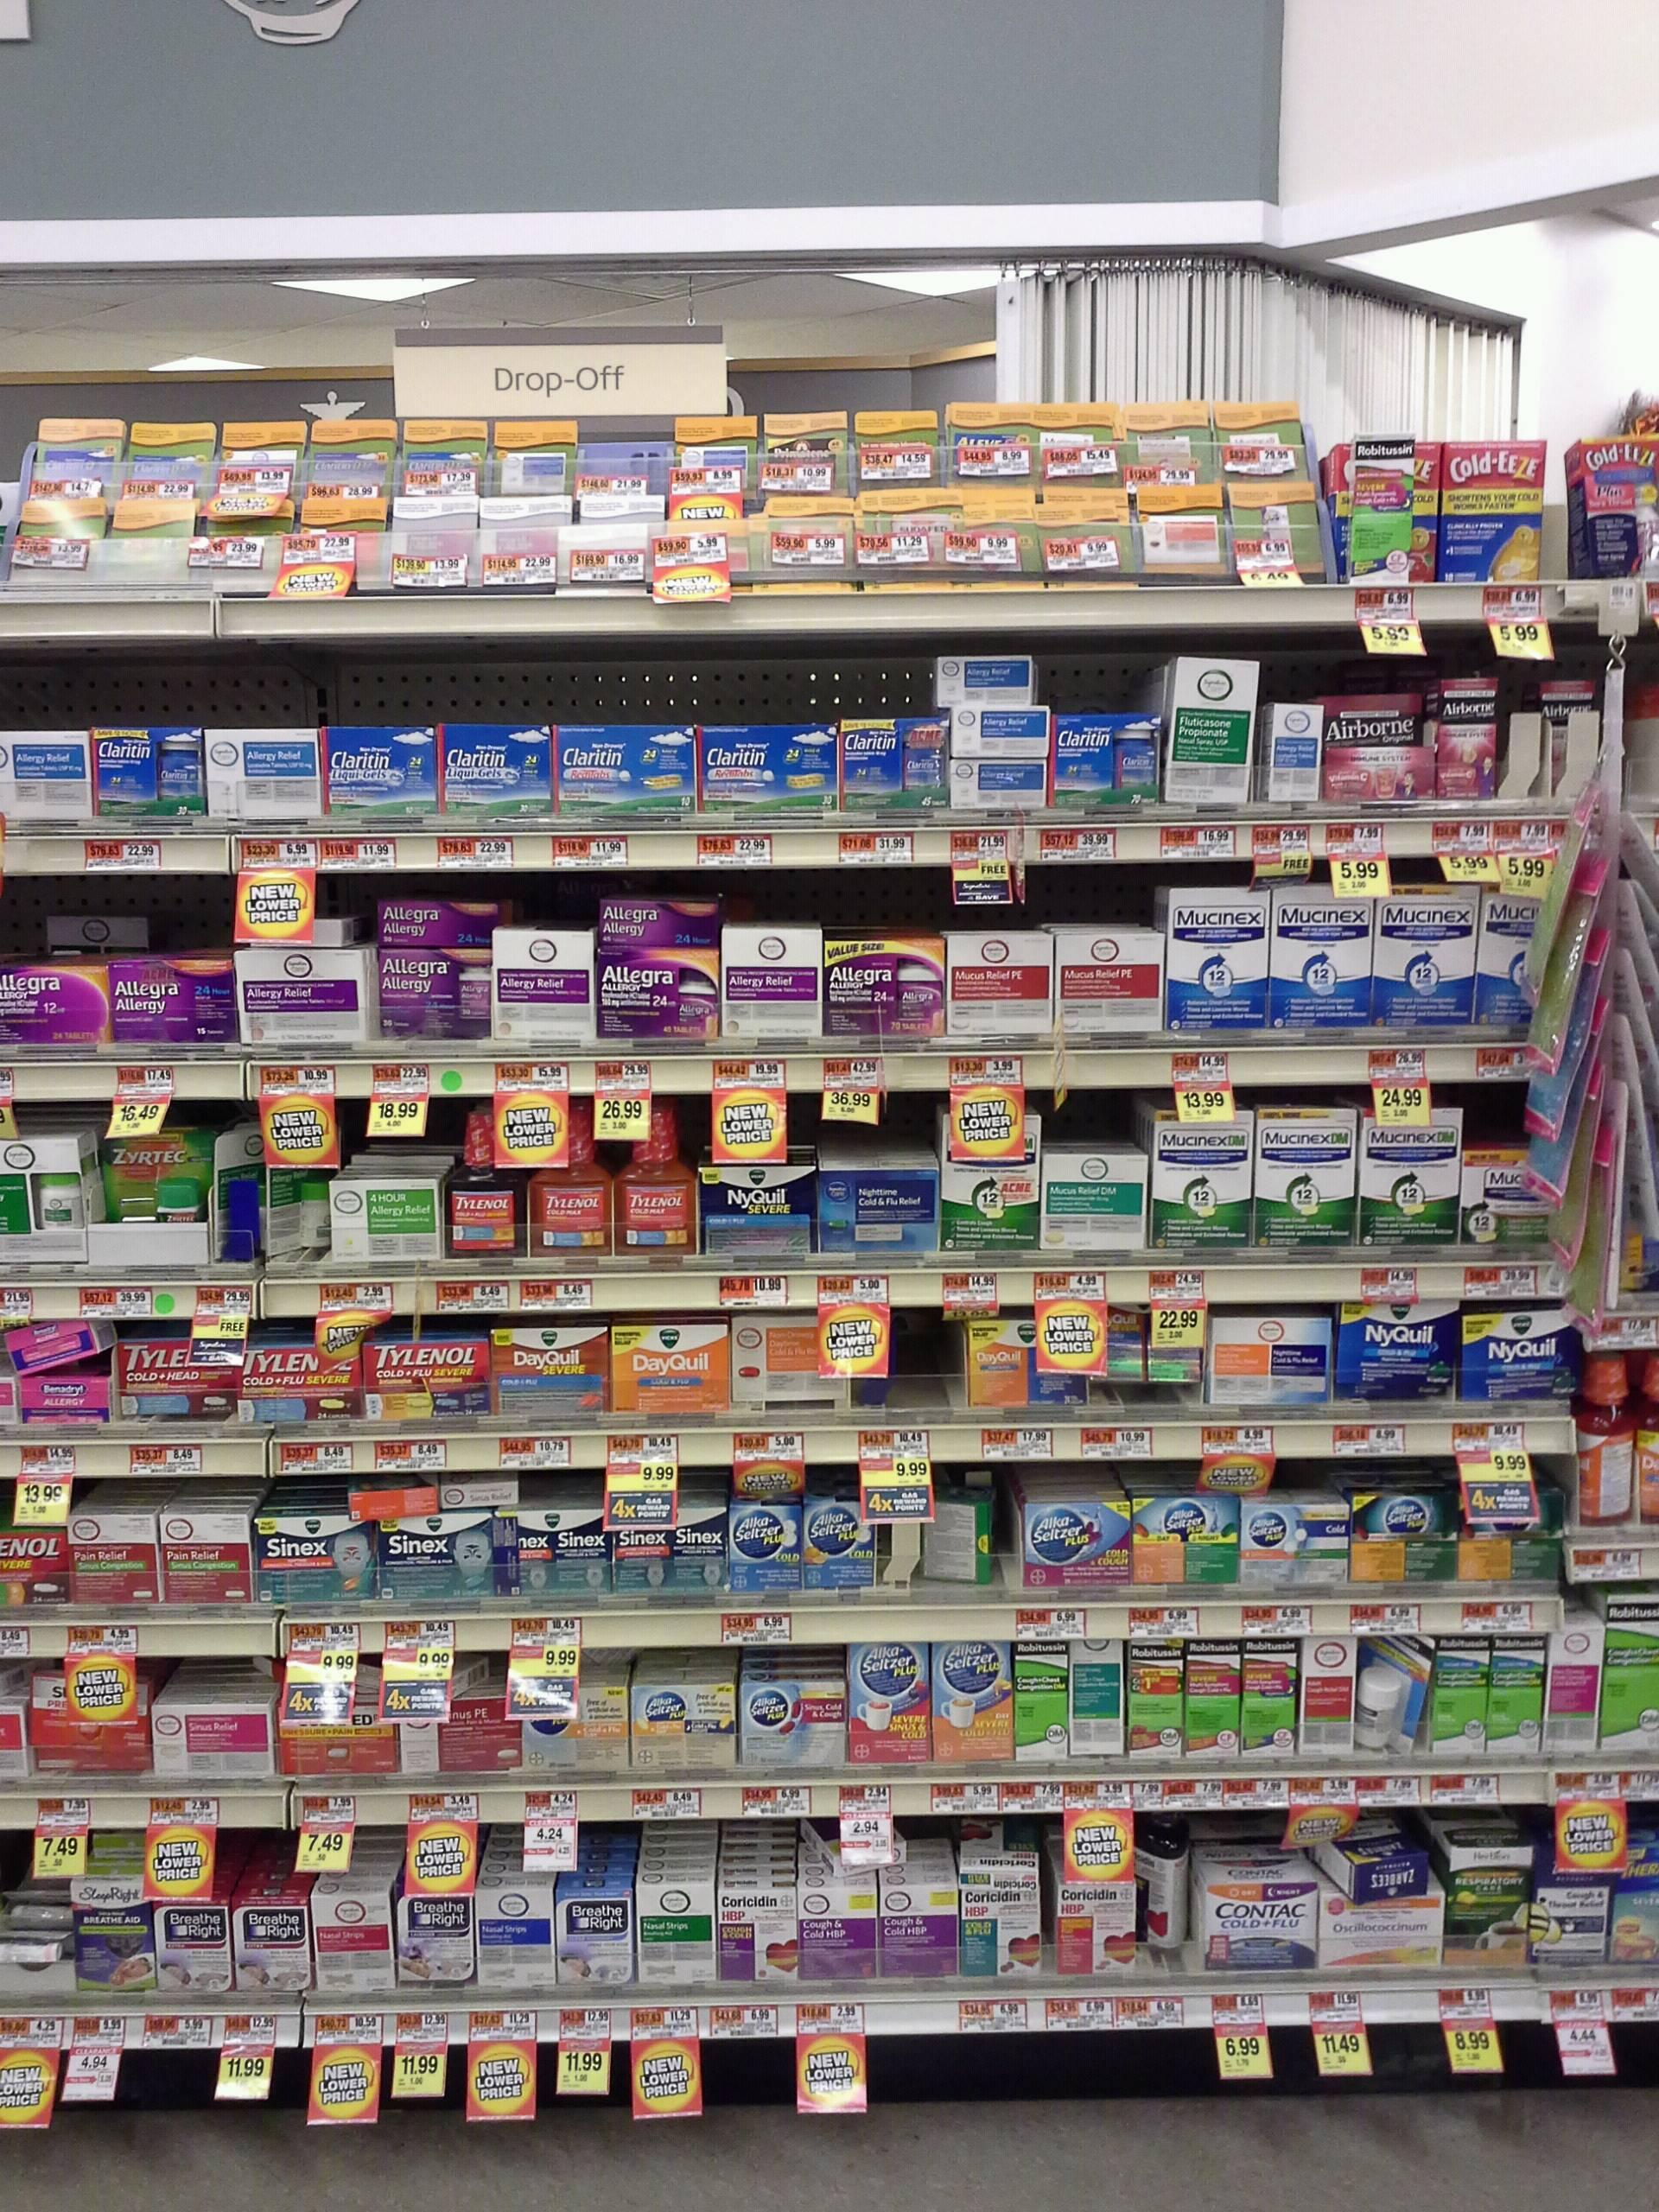misalignment: (1361, 1632, 1434, 1759), (1131, 1817, 1197, 1954), (3, 1872, 77, 1994), (1321, 1820, 1432, 1895), (275, 1137, 335, 1264), (920, 1493, 1000, 1583), (214, 1129, 270, 1254), (5, 1327, 117, 1364), (953, 1820, 1014, 1858)
